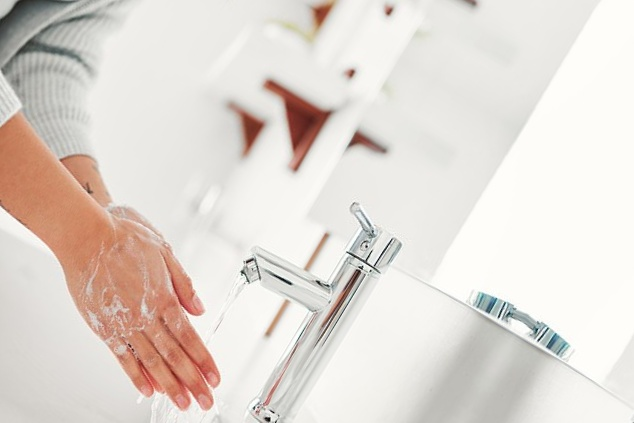washing hand: (0, 2, 502, 422)
